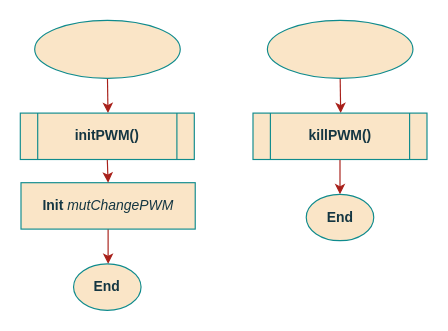
The diagram is 448 pixels wide and 331 high, and some of its shapes have lost their labels. Here are the shapes that lost their labels. From the top down, the centre of each, then its label:
the point at 107,48: Lamp
the point at 339,48: ~Lamp
